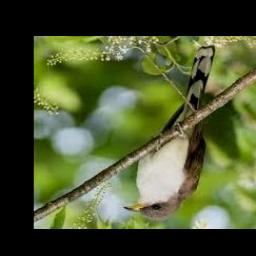Cuckoo: (123, 46, 215, 220)
